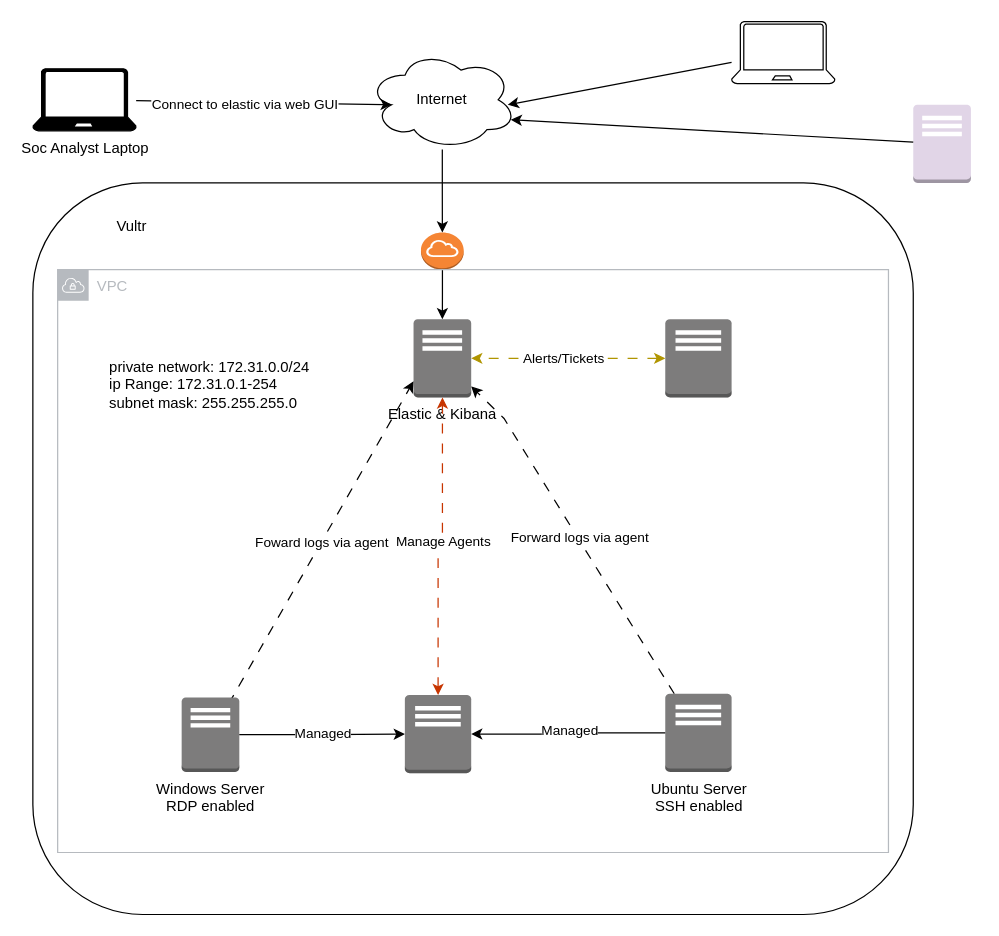
Image size: 999x936. Some labels were removed from this diagram. Each missing label, with the centre of its shape:
Attacker laptop kali linux: the point at 782,52
C2 Server Mythic: the point at 941,143
Fleet Server: the point at 437,733
osTicket Server: the point at 698,357
